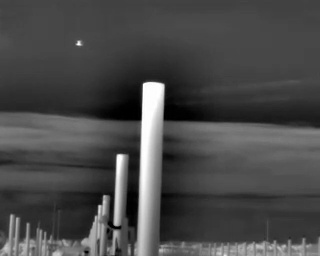BIRD: (73, 38, 85, 50)
